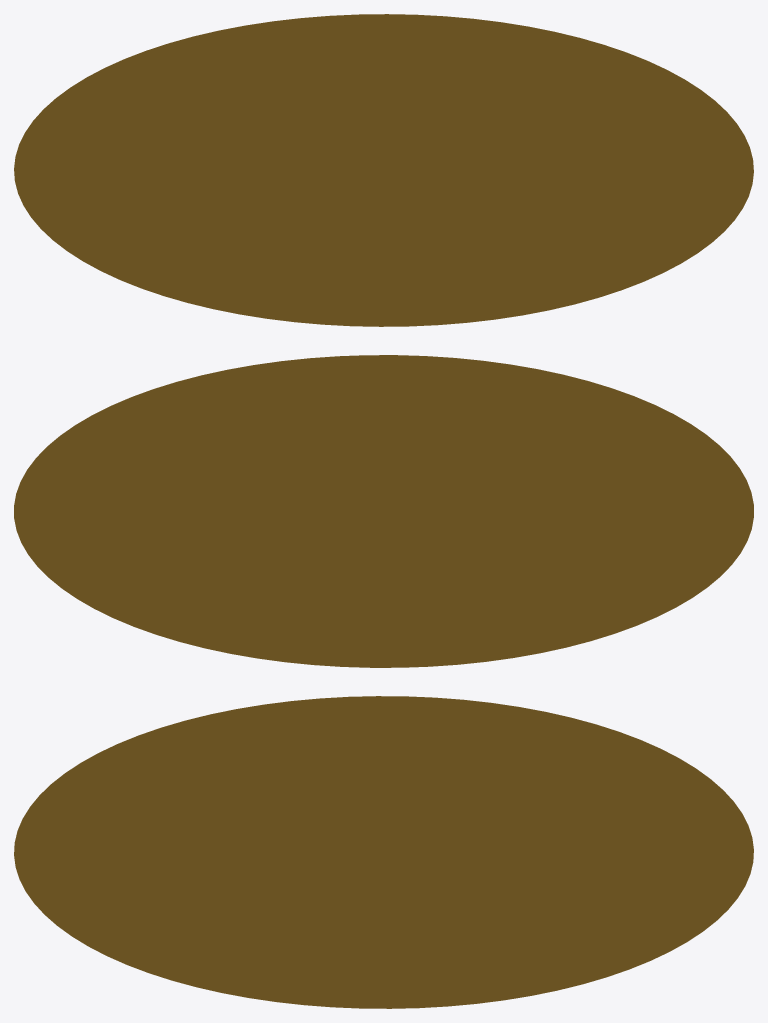
Rendered from original-31.obj.
3 renders of one model, top to bottom at view 1: azimuth 30°, elevation 25°; view 2: azimuth 150°, elevation 25°; view 3: azimuth 270°, elevation 25°, orthographic.
Visible parts, largest first — view 1: #ID187; view 2: #ID187; view 3: #ID187.
Part boxes in pixels (x1,y1,x2,y2): #ID187: (14,14,753,326); #ID187: (14,355,753,667); #ID187: (14,696,753,1008).
Bounding box in the file's own units: 0.0548 × 0 × 0.0548.
